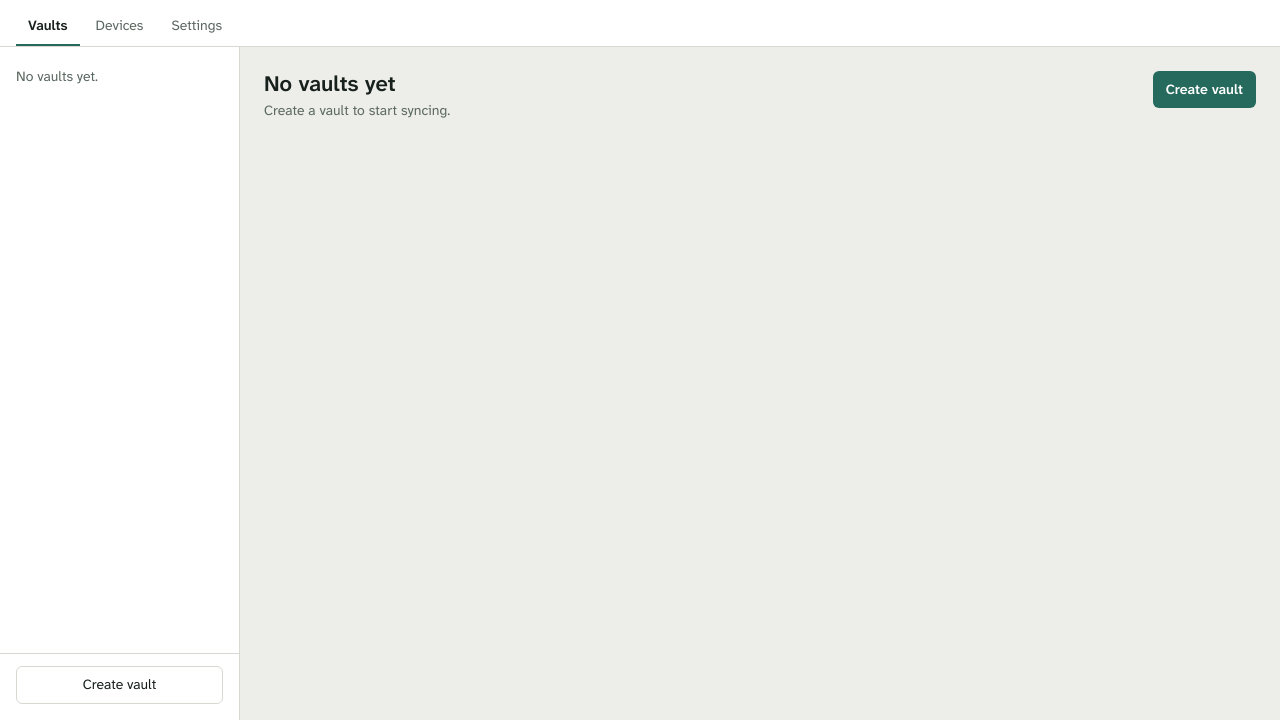
Test: the tabs (spec §15) › signs another device out after a confirmation
The width and height of the screenshot is (1280, 720).
Step 1. Click the tab "Devices" → (120, 27), box [84,8,156,46]
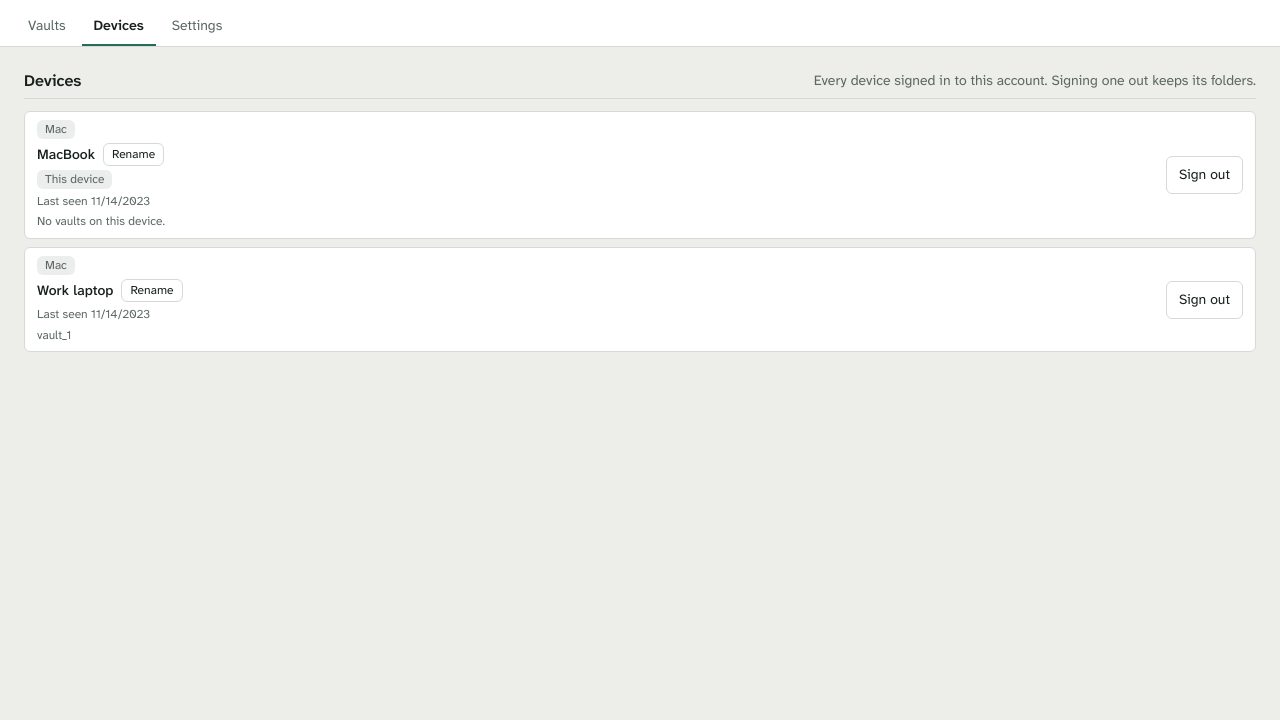
Step 2. Click the button with test id "deviceSignOutButton" in the row of "Work laptop" → (1204, 300), box [1166,281,1243,319]
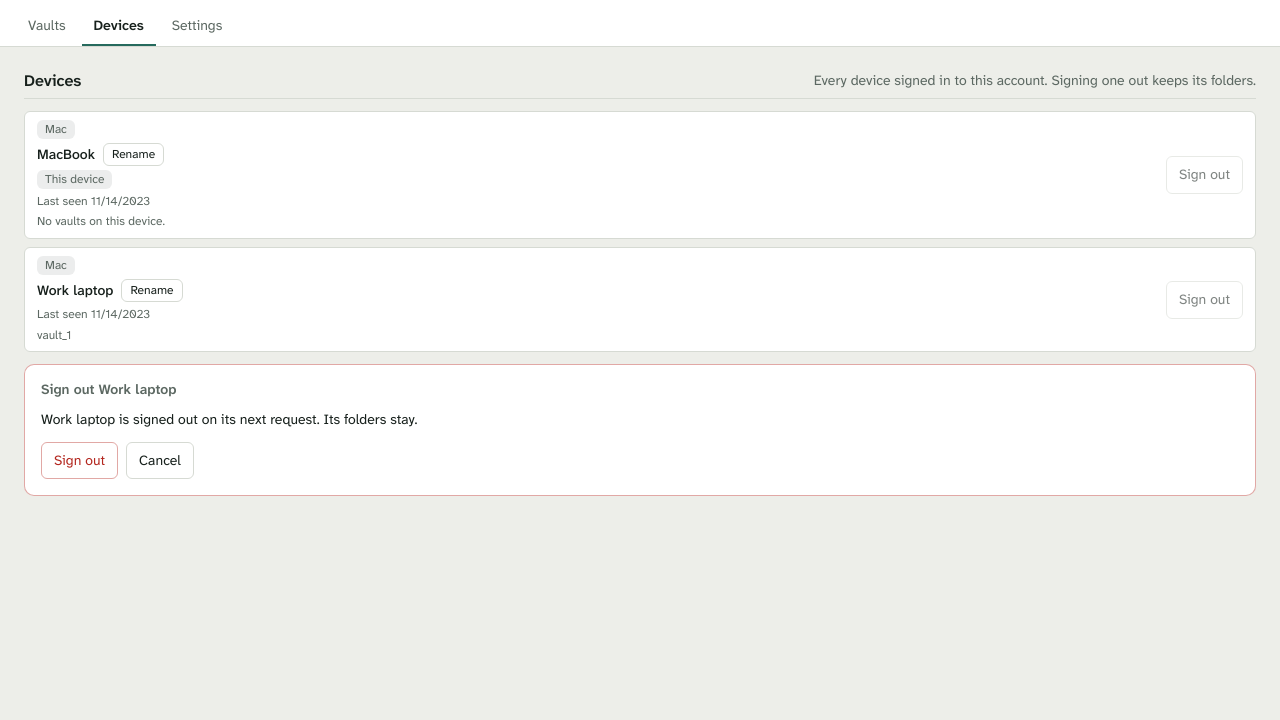
Check: the text "Work laptop is signed out on its next request. Its folders stay." is shown, box [41,410,417,428]
Step 3. Click the button with test id "confirmDestructiveButton" → (80, 461), box [41,442,118,479]
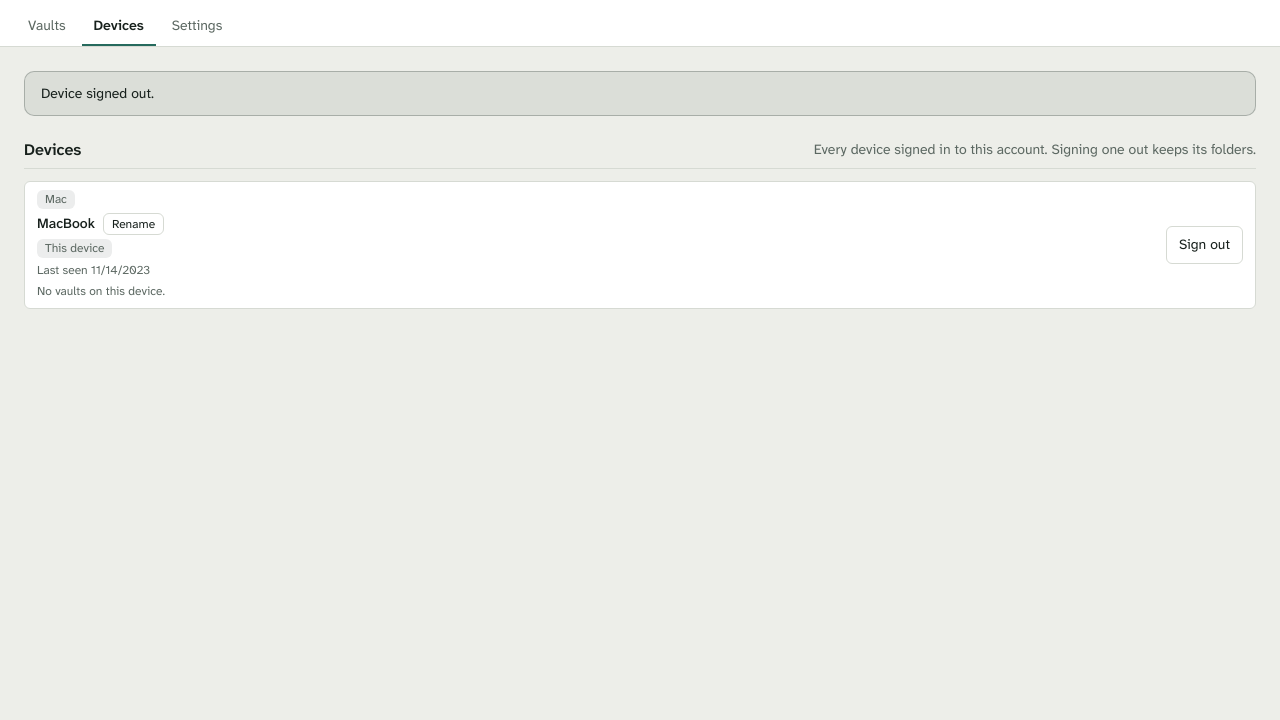
Check: the text "Device signed out." is shown, box [24,71,1256,116]
